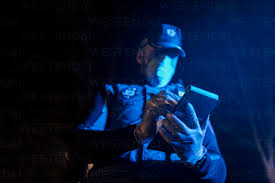mask: (145, 55, 174, 88)
